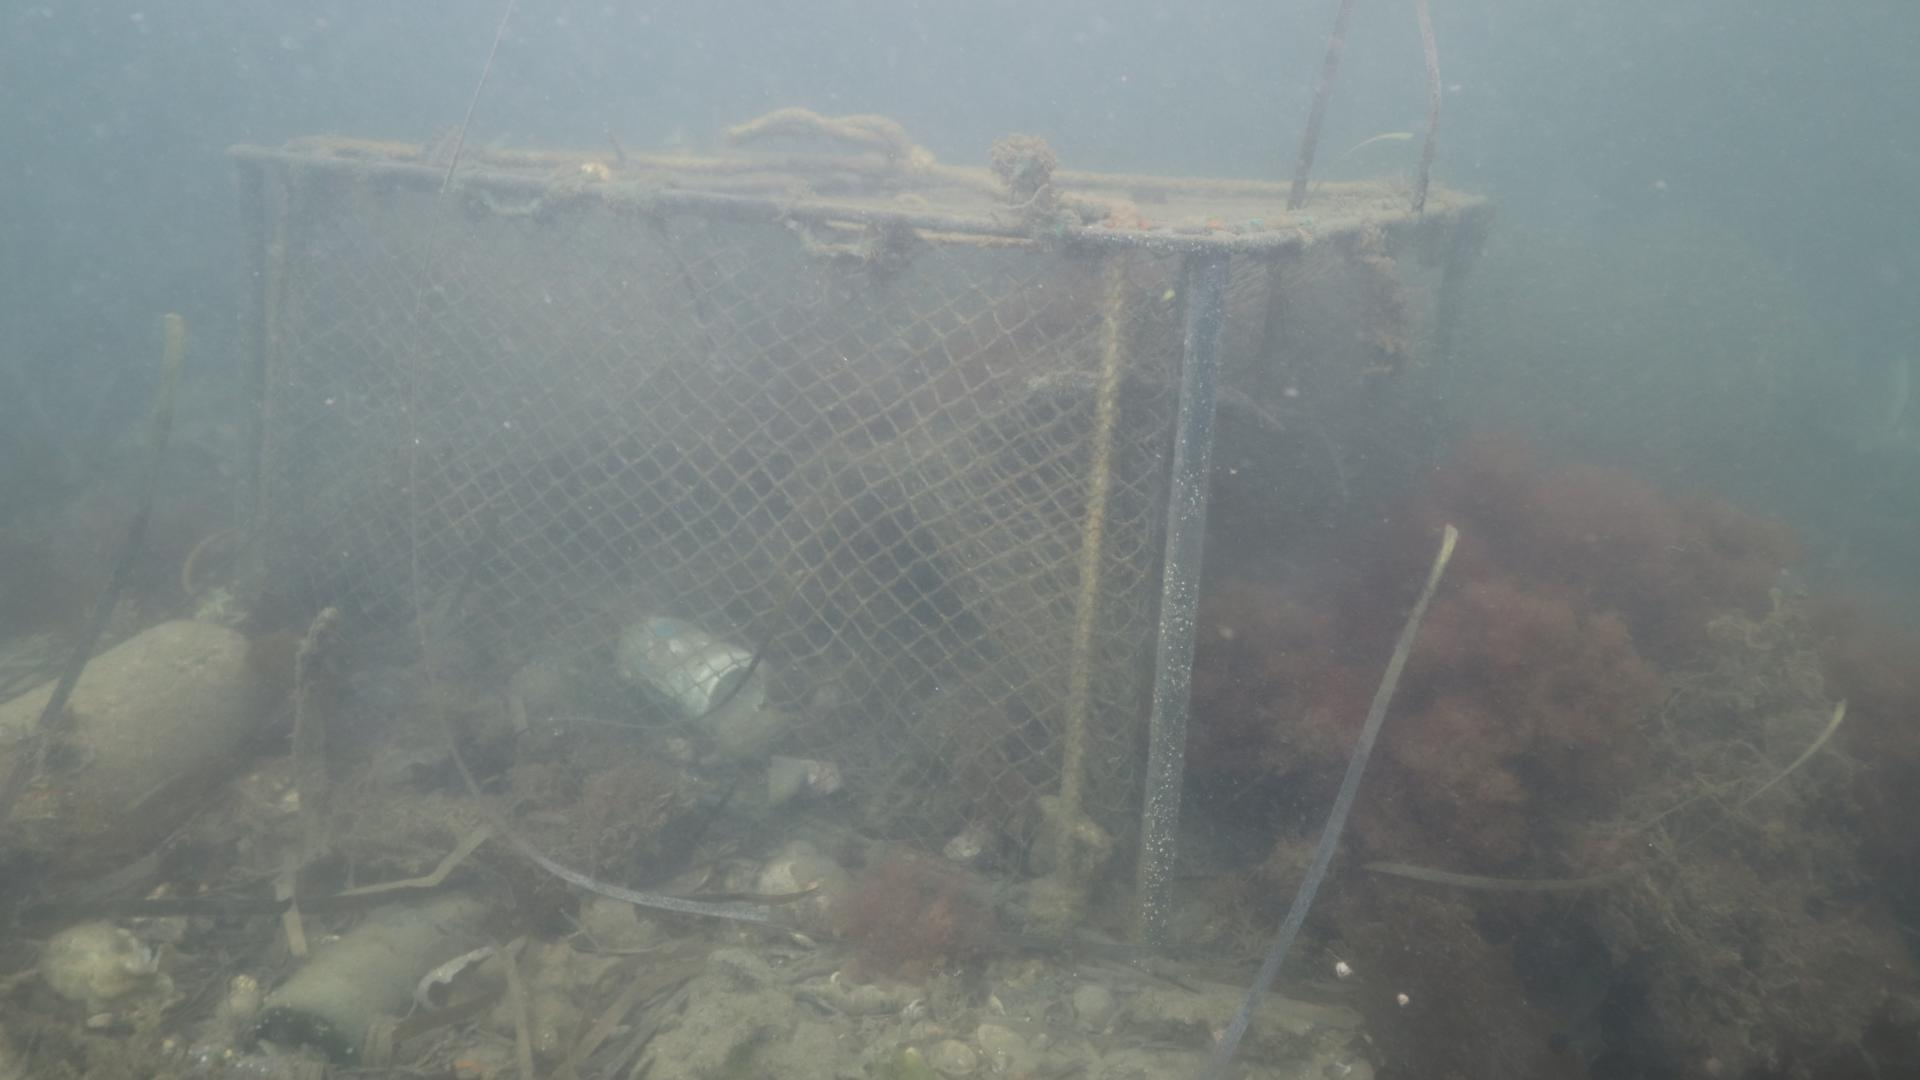rectangular fish trap: (224, 135, 1493, 944)
